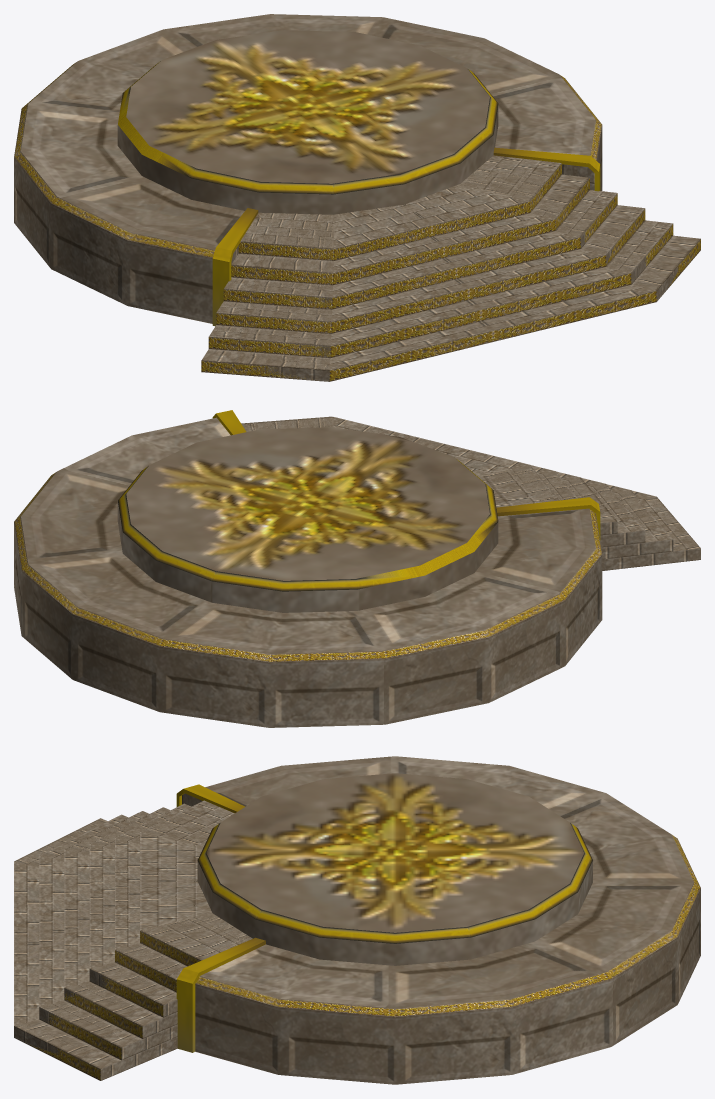
The model's file is Platform.fbx.
3 renders of one model, top to bottom at view 1: azimuth 30°, elevation 25°; view 2: azimuth 150°, elevation 25°; view 3: azimuth 270°, elevation 25°, orthographic. The views are drawn at different scales.
Parts seen in each view (by area): view 1: platform; view 2: platform; view 3: platform.
Boxes of the visible parts, left/top/right/bottom form: platform: left=14, top=14, right=700, bottom=381; platform: left=14, top=410, right=700, bottom=727; platform: left=14, top=756, right=700, bottom=1084.
Size of the model in its own units: 569 by 105 by 640.
1 material, 1 textured.
